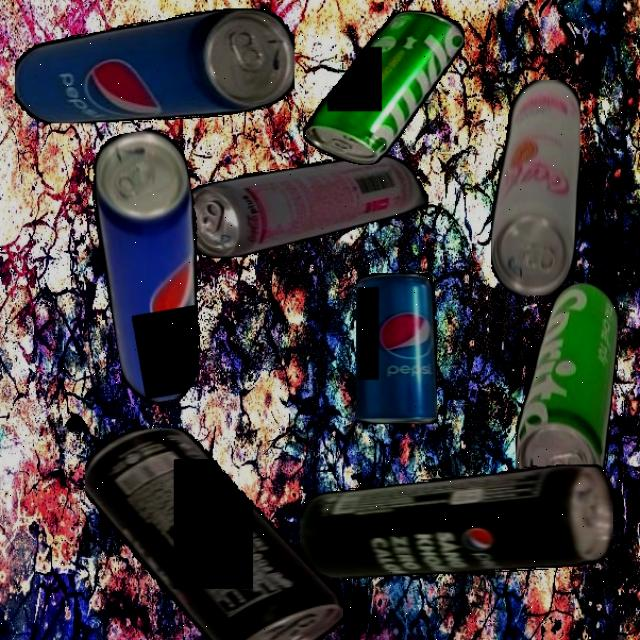debris: (85, 427, 343, 640), (82, 125, 226, 408), (300, 464, 613, 578), (14, 8, 294, 124), (178, 154, 428, 258), (302, 10, 465, 164), (514, 282, 618, 510), (490, 78, 581, 296), (355, 273, 437, 424)
